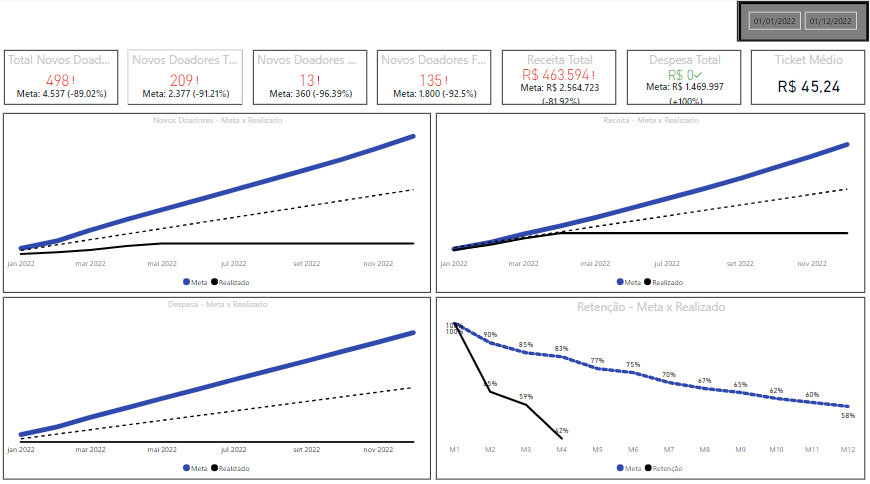

Layout of this report page (visuals, bound fields, positions):
{"tool":"powerbi","page":{"name":"Página4","canvas":[1280,720],"ordinal":3},"visuals":[{"type":"basicShape","box":[1079.4,6.2,193.2,59.1],"z":3000},{"type":"slicer","fields":{"Values":["DirectorReport1.Data"]},"box":[1084.3,11.1,183.4,49.2],"z":4000},{"type":"kpi","title":"Total Novos Doadores","fields":{"Goal":["_Medidas.Director Novo Doador Meta"],"Indicator":["_Medidas.Director Novo Doador"],"TrendLine":["DirectorReport1.Data.Variation.Hierarquia de datas.Ano"]},"box":[6.7,77.3,166.7,80],"z":5000},{"type":"kpi","title":"Novos Doadores TLMKT","fields":{"Indicator":["_Medidas.Director Novo Doador TLMKT"],"Goal":["_Medidas.Director Novo Doador TLMKT Meta"],"TrendLine":["DirectorReport1.Data.Variation.Hierarquia de datas.Ano"]},"box":[188.6,77.1,167.3,80],"z":6000},{"type":"kpi","title":"Novos Doadores Online","fields":{"Goal":["_Medidas.Director Novo Doador Online Meta"],"Indicator":["_Medidas.Director Novo Doador Online"],"TrendLine":["DirectorReport1.Data.Variation.Hierarquia de datas.Ano"]},"box":[371.1,77.1,167.3,80],"z":7000},{"type":"kpi","title":"Novos Doadores F2F","fields":{"Goal":["_Medidas.Director Novo Doador F2F Meta"],"Indicator":["_Medidas.Director Novo Doador F2F"],"TrendLine":["DirectorReport1.Data.Variation.Hierarquia de datas.Ano"]},"box":[553.6,77.1,167.3,80],"z":8000},{"type":"kpi","title":"Receita Total","fields":{"Goal":["_Medidas.Meta receita"],"Indicator":["_Medidas.Director Receita Realizada"],"TrendLine":["DirectorReport1.Data.Variation.Hierarquia de datas.Ano"]},"box":[736.1,77.1,167.3,80],"z":9000},{"type":"card","title":"Ticket Médio","fields":{"Values":["_Medidas.Director Ticket Medio"]},"box":[1101.1,77.1,167.3,80],"z":10000},{"type":"kpi","title":"Despesa Total","fields":{"Indicator":["_Medidas.Director Despesa Realizada"],"Goal":["_Medidas.Director Despesa Meta"],"TrendLine":["DirectorReport1.Data.Variation.Hierarquia de datas.Ano"]},"box":[918.6,77.1,167.3,80],"z":11000},{"type":"lineChart","title":"Novos Doadores - Meta x Realizado","fields":{"Category":["DirectorReport1.Data"],"Y":["Sum(DirectorReport1.Meta Novos Doadores Acum)","Sum(DirectorReport1.Novos Doadores Acum)"]},"box":[6.2,169.8,626.5,263.4],"z":12000},{"type":"lineChart","title":"Receita - Meta x Realizado","fields":{"Category":["DirectorReport1.Data"],"Y":["Sum(DirectorReport1.Receita Meta Acumulado)","Sum(DirectorReport1.Receita Realizada Acum)"]},"box":[640,169.8,627.7,263.4],"z":13000},{"type":"lineChart","title":"Despesa - Meta x Realizado","fields":{"Category":["DirectorReport1.Data"],"Y":["Sum(DirectorReport1.Meta Despesas Acum)","Sum(DirectorReport1.Despesa Realizada Acum)"]},"box":[6.2,439.4,626.5,267.1],"z":14000},{"type":"lineChart","title":"Retenção - Meta x Realizado","fields":{"Category":["Report7.Retenção"],"Y":["Sum(Report7.Meta)","Sum(Report7.Retencao)"]},"box":[640,439.4,627.7,267.1],"z":15000}]}

Visuals, with their boxes in screenshot pixels (x1, y1, x2, y2), scaled from the page's 1280x720 canvas onto the 870x484 screenshot:
basicShape: box(734, 4, 865, 44)
slicer - DirectorReport1.Data: box(737, 7, 862, 41)
"Total Novos Doadores" kpi: box(5, 52, 118, 106)
"Novos Doadores TLMKT" kpi: box(128, 52, 242, 106)
"Novos Doadores Online" kpi: box(252, 52, 366, 106)
"Novos Doadores F2F" kpi: box(376, 52, 490, 106)
"Receita Total" kpi: box(500, 52, 614, 106)
"Ticket Médio" card: box(748, 52, 862, 106)
"Despesa Total" kpi: box(624, 52, 738, 106)
"Novos Doadores - Meta x Realizado" lineChart: box(4, 114, 430, 291)
"Receita - Meta x Realizado" lineChart: box(435, 114, 862, 291)
"Despesa - Meta x Realizado" lineChart: box(4, 295, 430, 475)
"Retenção - Meta x Realizado" lineChart: box(435, 295, 862, 475)
